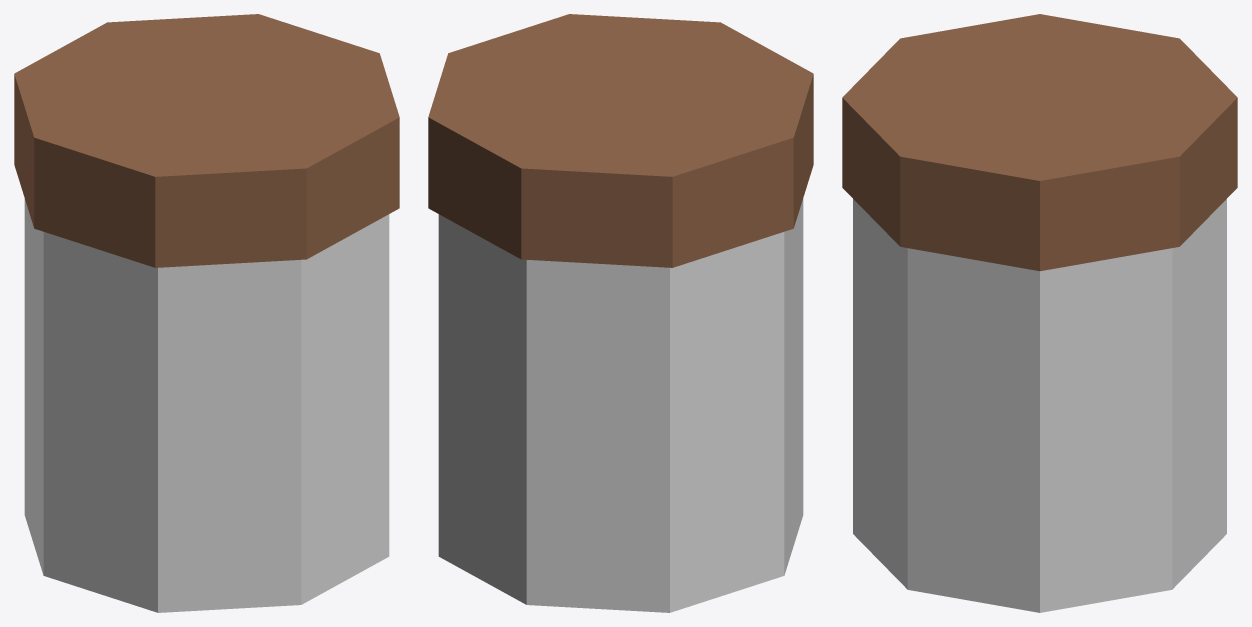
Rendered from KitchenProps_12.fbx.
The picture shows the model from 3 angles, left to right: view 1: azimuth 30°, elevation 25°; view 2: azimuth 150°, elevation 25°; view 3: azimuth 270°, elevation 25°; orthographic projection.
Parts seen in each view (by area): view 1: KitchenProps_12; view 2: KitchenProps_12; view 3: KitchenProps_12.
Part boxes in pixels (<box>): KitchenProps_12: <box>14,14,399,612</box>; KitchenProps_12: <box>428,14,813,612</box>; KitchenProps_12: <box>842,14,1237,612</box>.
Bounding box in the file's own units: 12.68 × 15.45 × 12.68.
